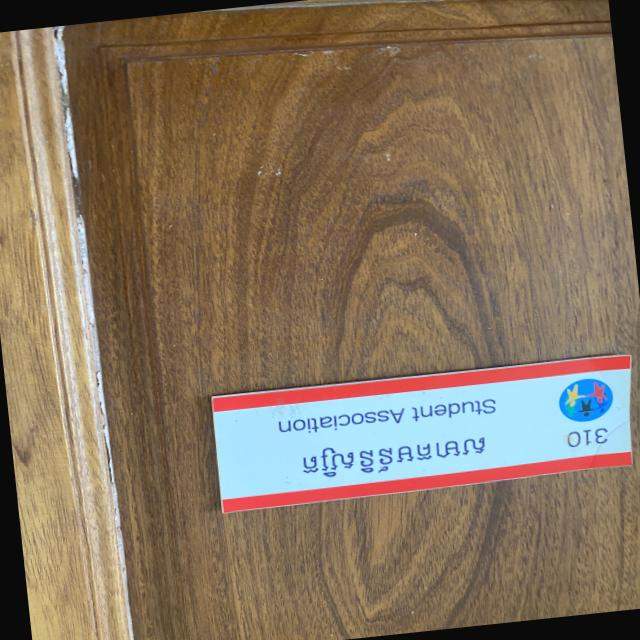717: (559, 421, 613, 452)
Yolov11kh: (294, 426, 491, 484)
